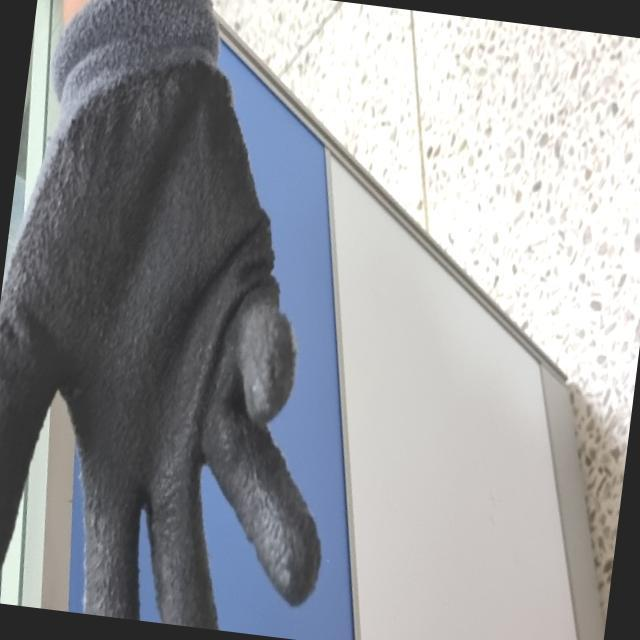Gloves: (0, 1, 306, 623)
